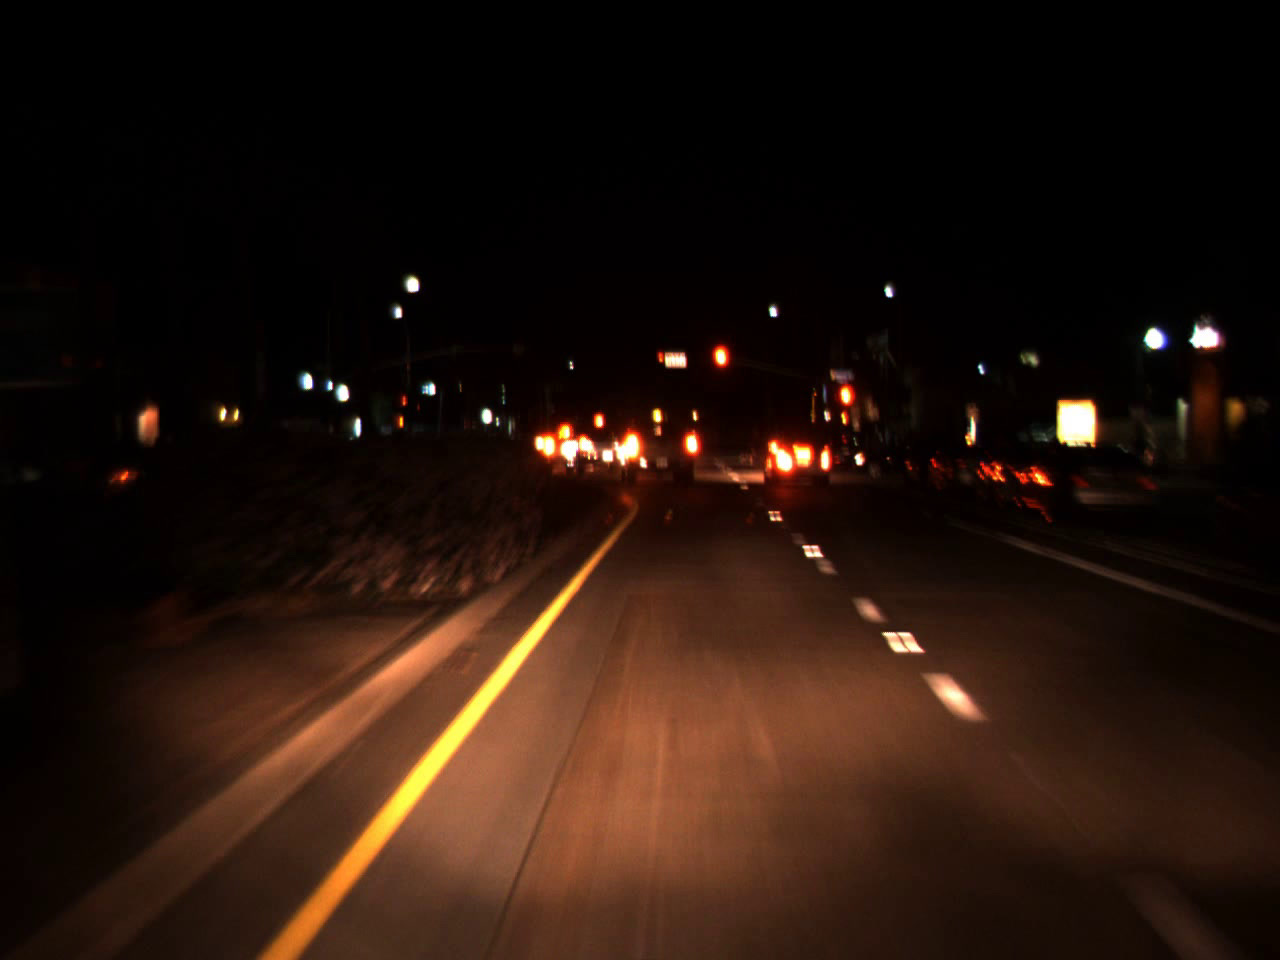stop: (836, 381, 855, 432), (714, 346, 726, 381), (658, 350, 664, 374), (401, 395, 407, 416)
